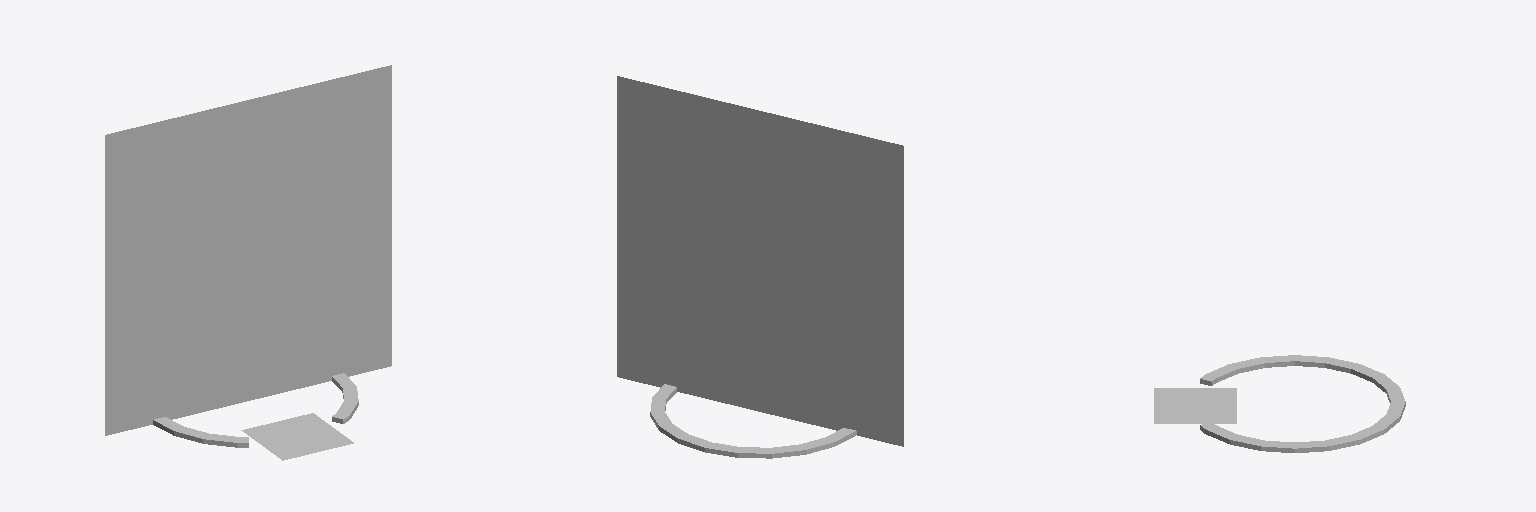
3 renders of one model, left to right at view 1: azimuth 30°, elevation 25°; view 2: azimuth 150°, elevation 25°; view 3: azimuth 270°, elevation 25°, orthographic.
Parts seen in each view (by area): view 1: c_face_Plane.003, c_back_Plane.006, icon_Plane.005, tt_base_Cylinder.001; view 2: c_back_Plane.006, c_face_Plane.003, tt_base_Cylinder.001; view 3: tt_base_Cylinder.001, icon_Plane.005.
Boxes of the visible parts, x1=… form: c_face_Plane.003: x1=173, y1=65, x2=391, y2=415; c_back_Plane.006: x1=105, y1=100, x2=286, y2=435; icon_Plane.005: x1=241, y1=413, x2=353, y2=460; tt_base_Cylinder.001: x1=153, y1=373, x2=358, y2=447; c_back_Plane.006: x1=617, y1=76, x2=824, y2=417; c_face_Plane.003: x1=639, y1=107, x2=903, y2=446; tt_base_Cylinder.001: x1=650, y1=384, x2=856, y2=458; tt_base_Cylinder.001: x1=1200, y1=355, x2=1405, y2=452; icon_Plane.005: x1=1154, y1=388, x2=1236, y2=423.
Bounding box in the file's own units: 6 × 6 × 4.54.